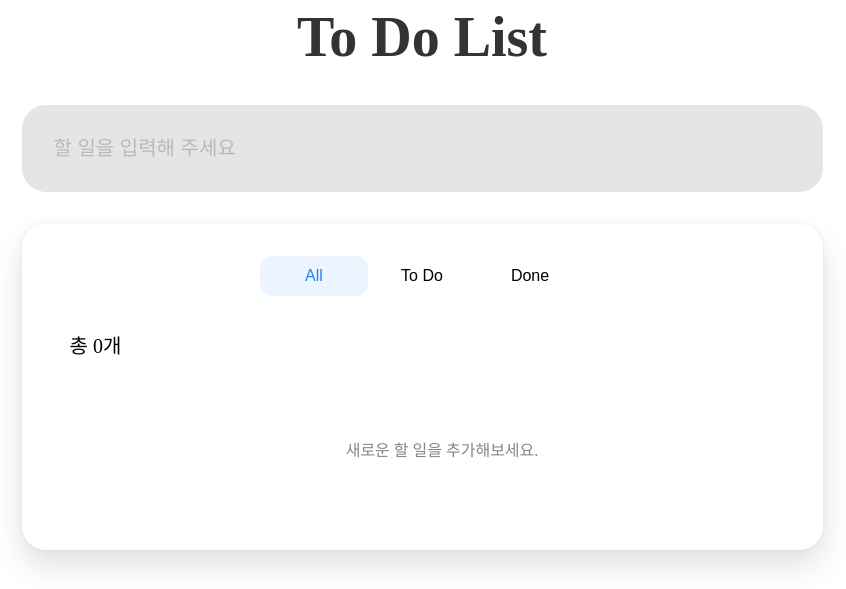
TodoUserListPage 통합 테스트 › 테스트 케이스 1, TodoInput에 값을 입력하고 엔터를 눌렀을 때 목록에 추가되어야 한다
The image size is (846, 589).
In the field with placeholder "할 일을 입력해 주세요": (422, 148) [22,104,822,192], type "첫 번째 할 일"
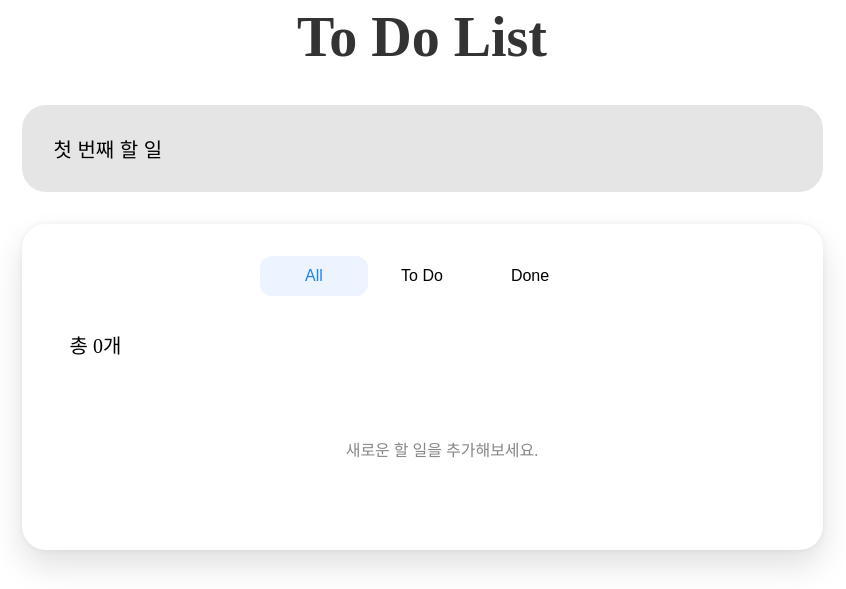
Press Enter in the field with placeholder "할 일을 입력해 주세요", box [22,104,822,192]
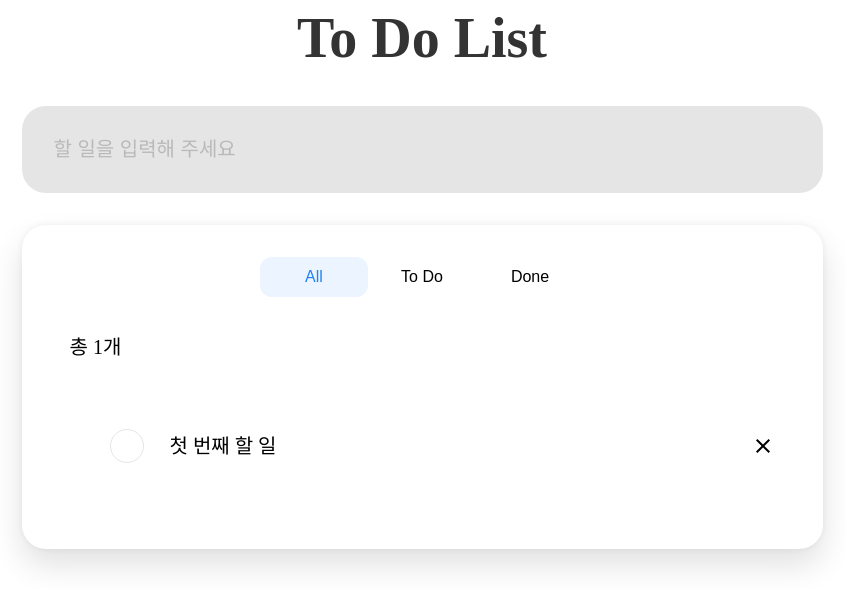
Expected: the text "첫 번째 할 일" is shown, [170,432,276,460]
